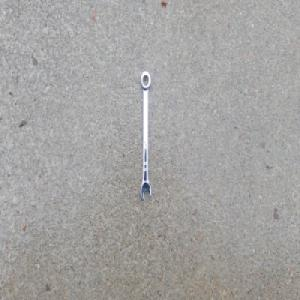Wrench: (139, 68, 151, 201)
